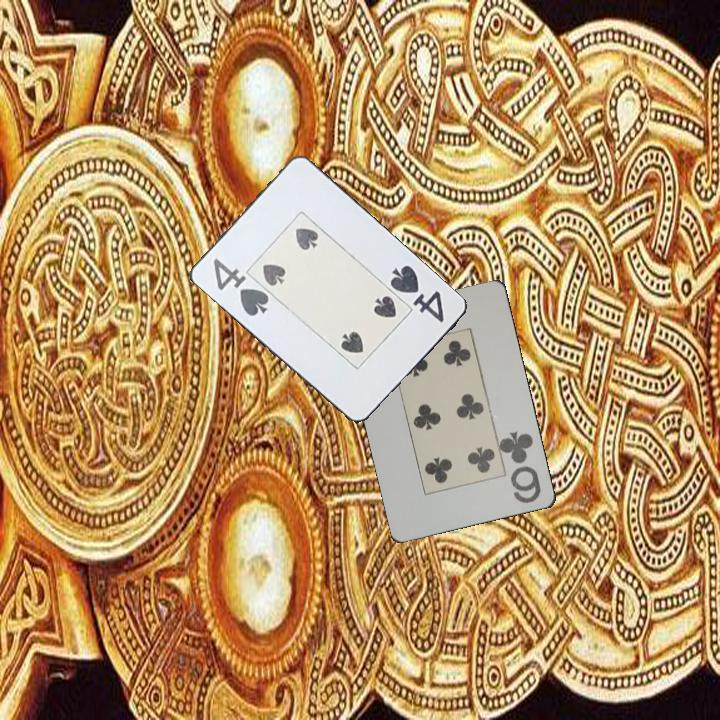4s: (209, 254, 272, 319), (386, 261, 447, 326)
6c: (498, 428, 544, 506)
